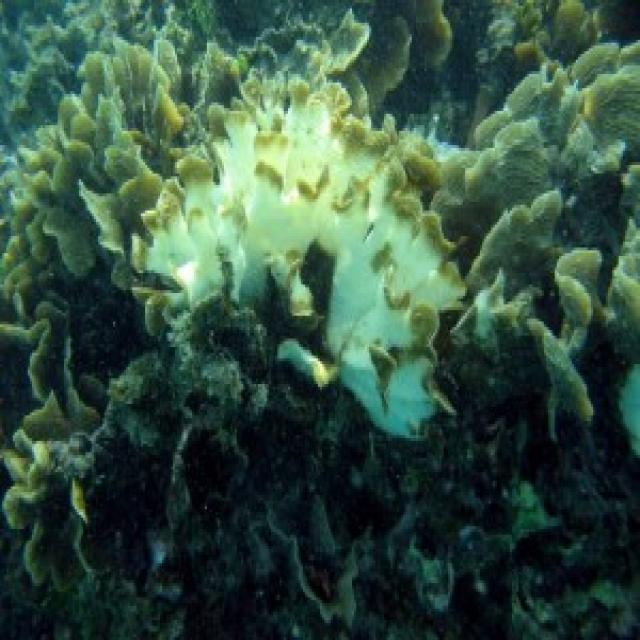Bleached: (133, 81, 464, 436)
Healthy: (1, 1, 323, 578), (440, 12, 639, 408)
